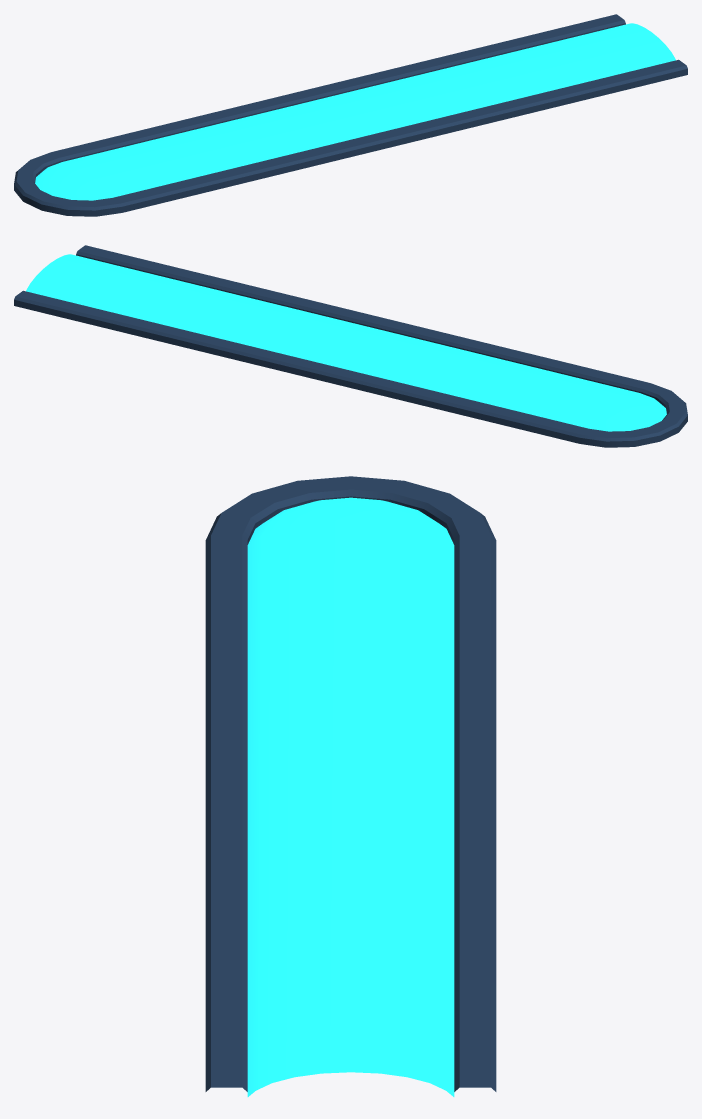
Rendered from Light_Trim_01_RoundEnd.glb.
3 views of the same model, one above another, from view 1: azimuth 30°, elevation 25°; view 2: azimuth 150°, elevation 25°; view 3: azimuth 270°, elevation 25° (orthographic). The views are drawn at different scales.
Parts seen in each view (by area): view 1: Light_Trim_01_RoundEnd.001; view 2: Light_Trim_01_RoundEnd.001; view 3: Light_Trim_01_RoundEnd.001.
Boxes of the visible parts, x1,y1,x2,y2 form: Light_Trim_01_RoundEnd.001: (14, 14, 687, 216); Light_Trim_01_RoundEnd.001: (14, 245, 687, 447); Light_Trim_01_RoundEnd.001: (205, 476, 496, 1096).
Size of the model in its own units: 0.5 by 0.0123 by 0.1.
